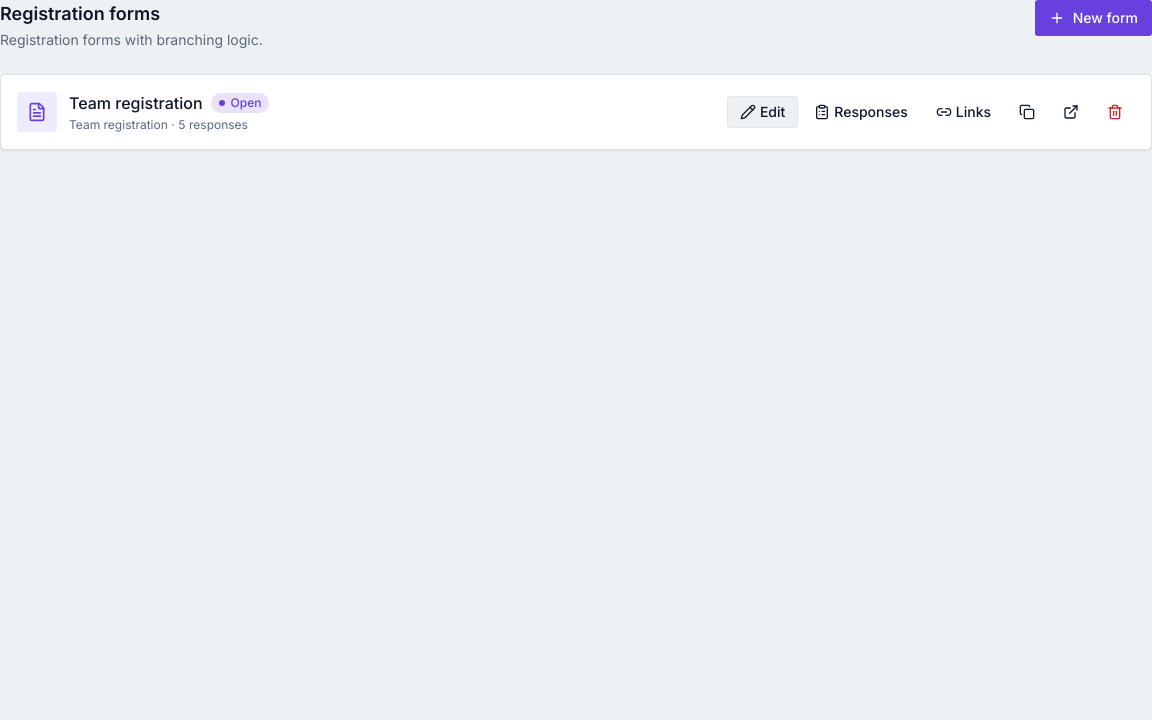
Scenario: FormsListPage › mints + lists per-institution links for a team form
Check: the link "Team registration" is shown, box [69, 91, 203, 115]
What coordinates should you click on to do the following:
click the button with test id "links-team1"
I would click on:
 (963, 112)
Its box is [924, 96, 1003, 128].
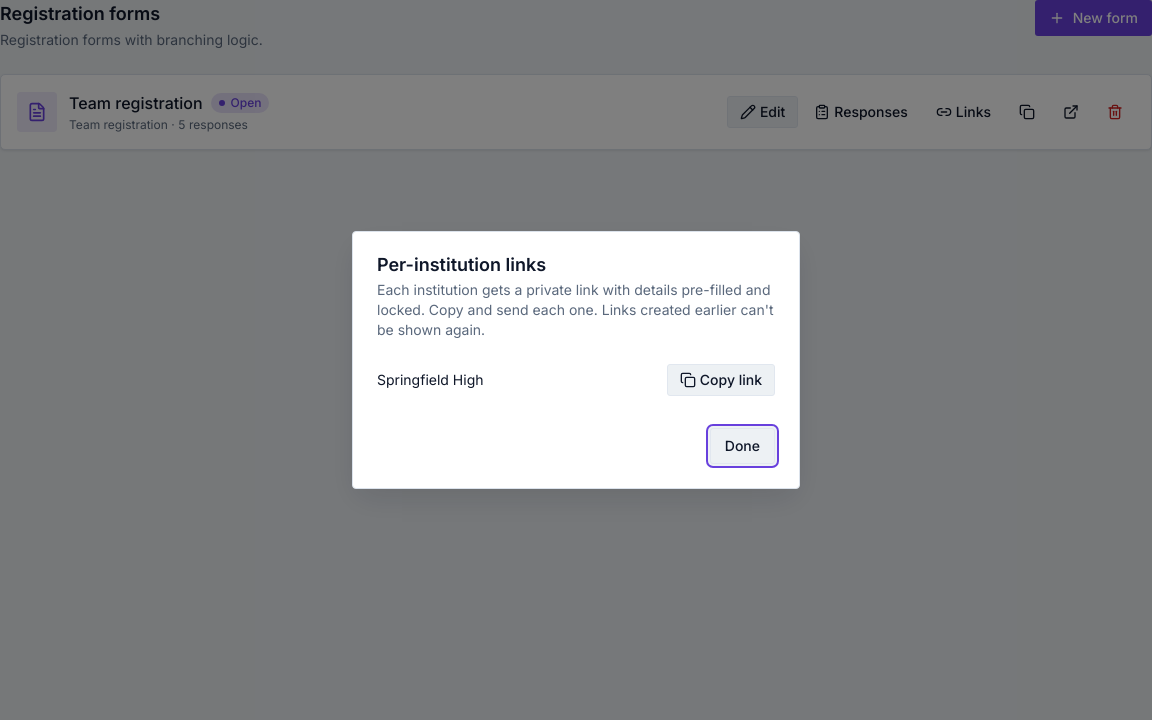
Check: the text "Springfield High" is shown, box [377, 370, 484, 390]
Check: the button "Copy link" is shown, box [667, 364, 775, 396]
